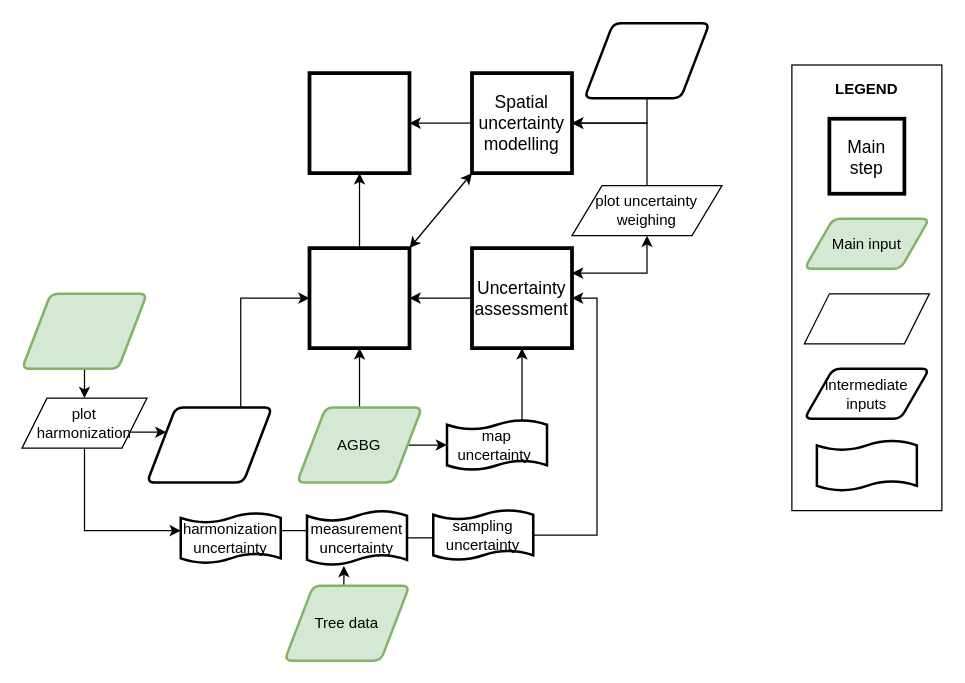
Image size: 965x683. Some labels were removed from this diagram. The centre of each missing label's shape, as x and y in pixels:
"Adjusted reference data" goes at (x=209, y=444).
"ecological covariates" goes at (x=646, y=60).
"Inter-comparison and change analysis" goes at (x=359, y=122).
"intermediate step" goes at (x=866, y=318).
"Plot-Map Comparison" goes at (x=359, y=297).
"Reference data" goes at (x=84, y=330).
"uncertainties" goes at (x=866, y=465).
